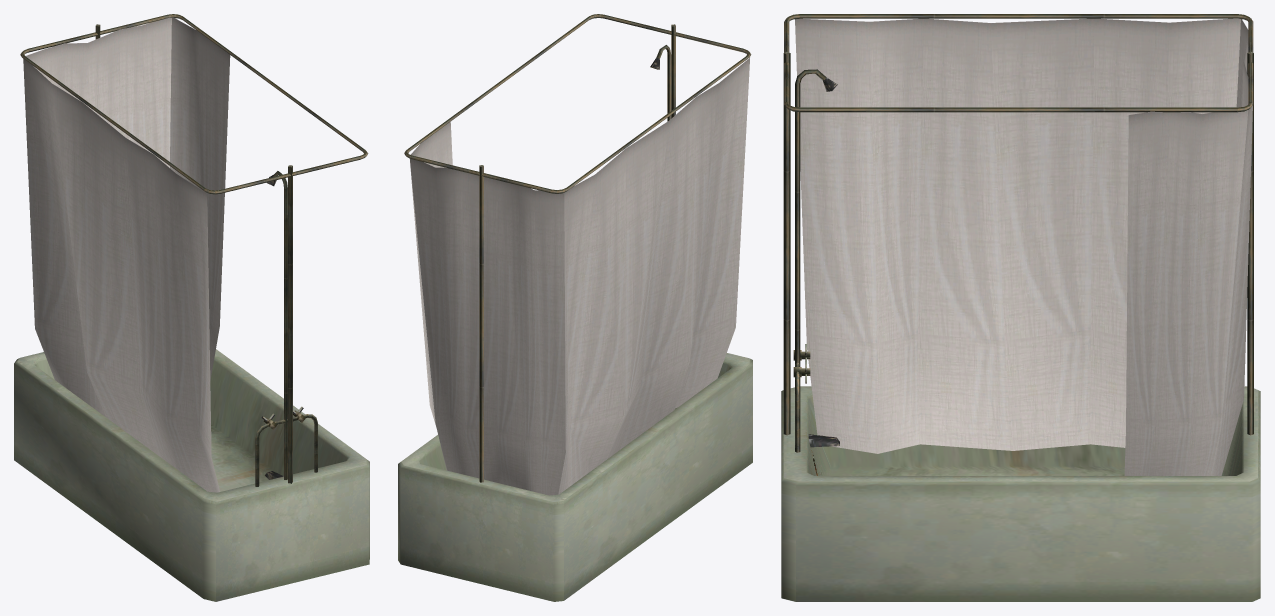
The model's file is dirty_tub.fbx.
3 renders of one model, left to right at view 1: azimuth 30°, elevation 25°; view 2: azimuth 150°, elevation 25°; view 3: azimuth 270°, elevation 25°, orthographic. The views are drawn at different scales.
Visible parts, largest first — view 1: mesh_0, mesh_2, mesh_1; view 2: mesh_0, mesh_2, mesh_1; view 3: mesh_0, mesh_2, mesh_1.
Part boxes in pixels (x1,y1,x2,y2): mesh_0: (23, 17, 230, 492); mesh_2: (14, 14, 369, 601); mesh_1: (23, 18, 229, 492); mesh_0: (410, 58, 749, 495); mesh_2: (398, 14, 752, 601); mesh_1: (410, 58, 749, 495); mesh_0: (795, 18, 1252, 475); mesh_2: (781, 14, 1260, 601); mesh_1: (795, 18, 1252, 475).
Bounding box in the file's own units: 88 × 210 × 182.
